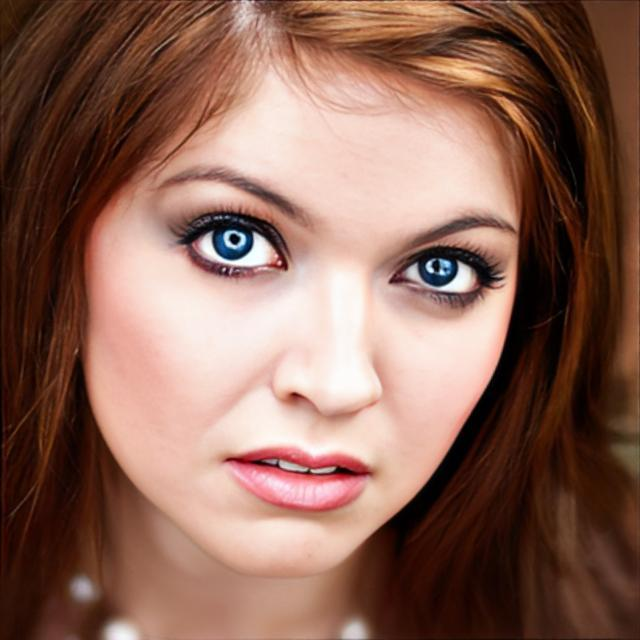disgust: (80, 0, 520, 582)
